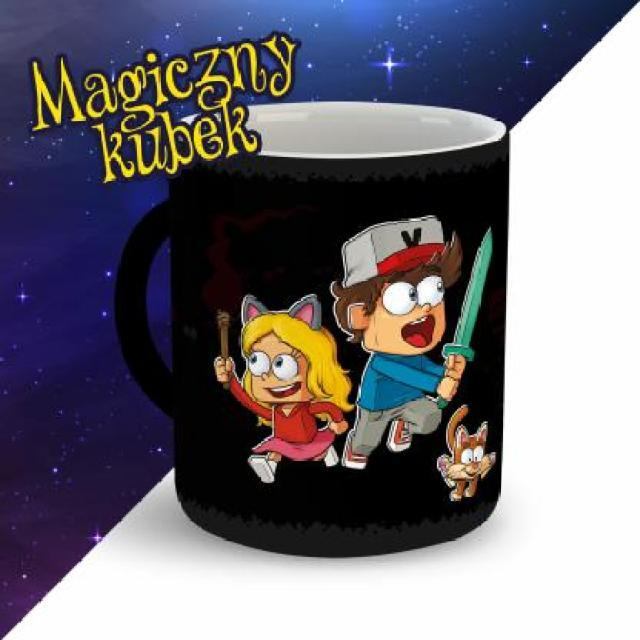cup: (103, 95, 522, 565)
